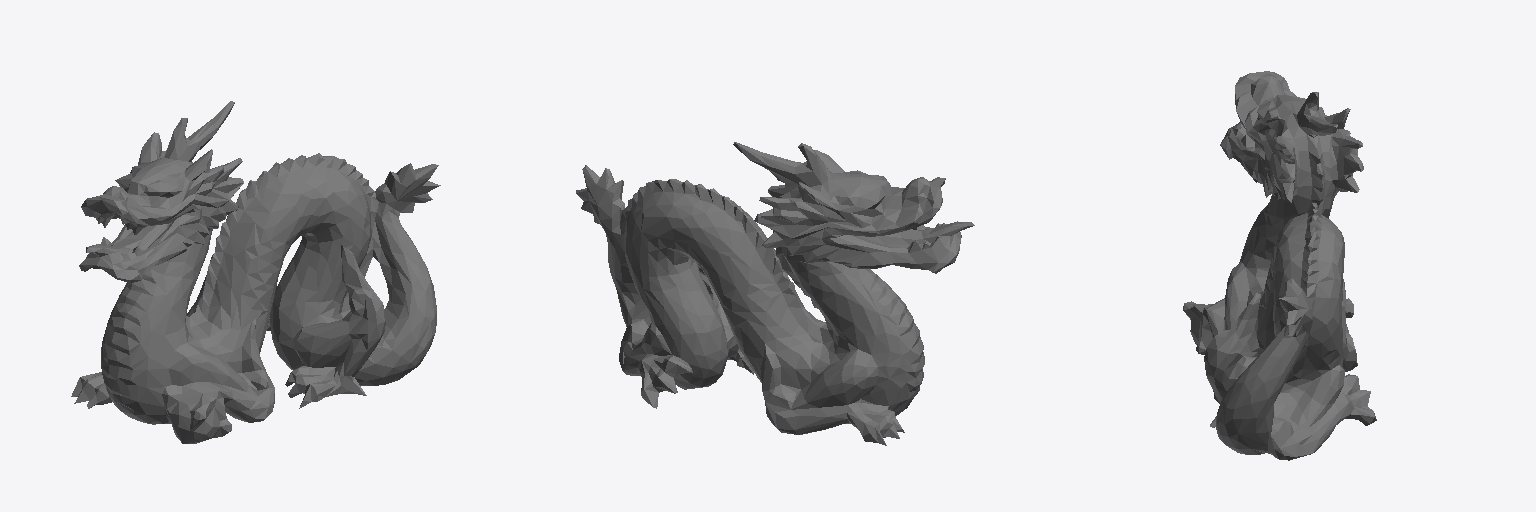
File: dragon_high_3.OBJ
The picture shows the model from 3 angles: view 1: azimuth 30°, elevation 25°; view 2: azimuth 150°, elevation 25°; view 3: azimuth 270°, elevation 25°; orthographic projection.
Visible parts, largest first — view 1: dragon_high_3:Group9569; view 2: dragon_high_3:Group9569; view 3: dragon_high_3:Group9569.
Part boxes in pixels (x1,y1,x2,y2): dragon_high_3:Group9569: (71,101,440,443); dragon_high_3:Group9569: (576,142,974,445); dragon_high_3:Group9569: (1183,71,1376,460).
Bounding box in the file's own units: 2.83 × 1.98 × 1.26.